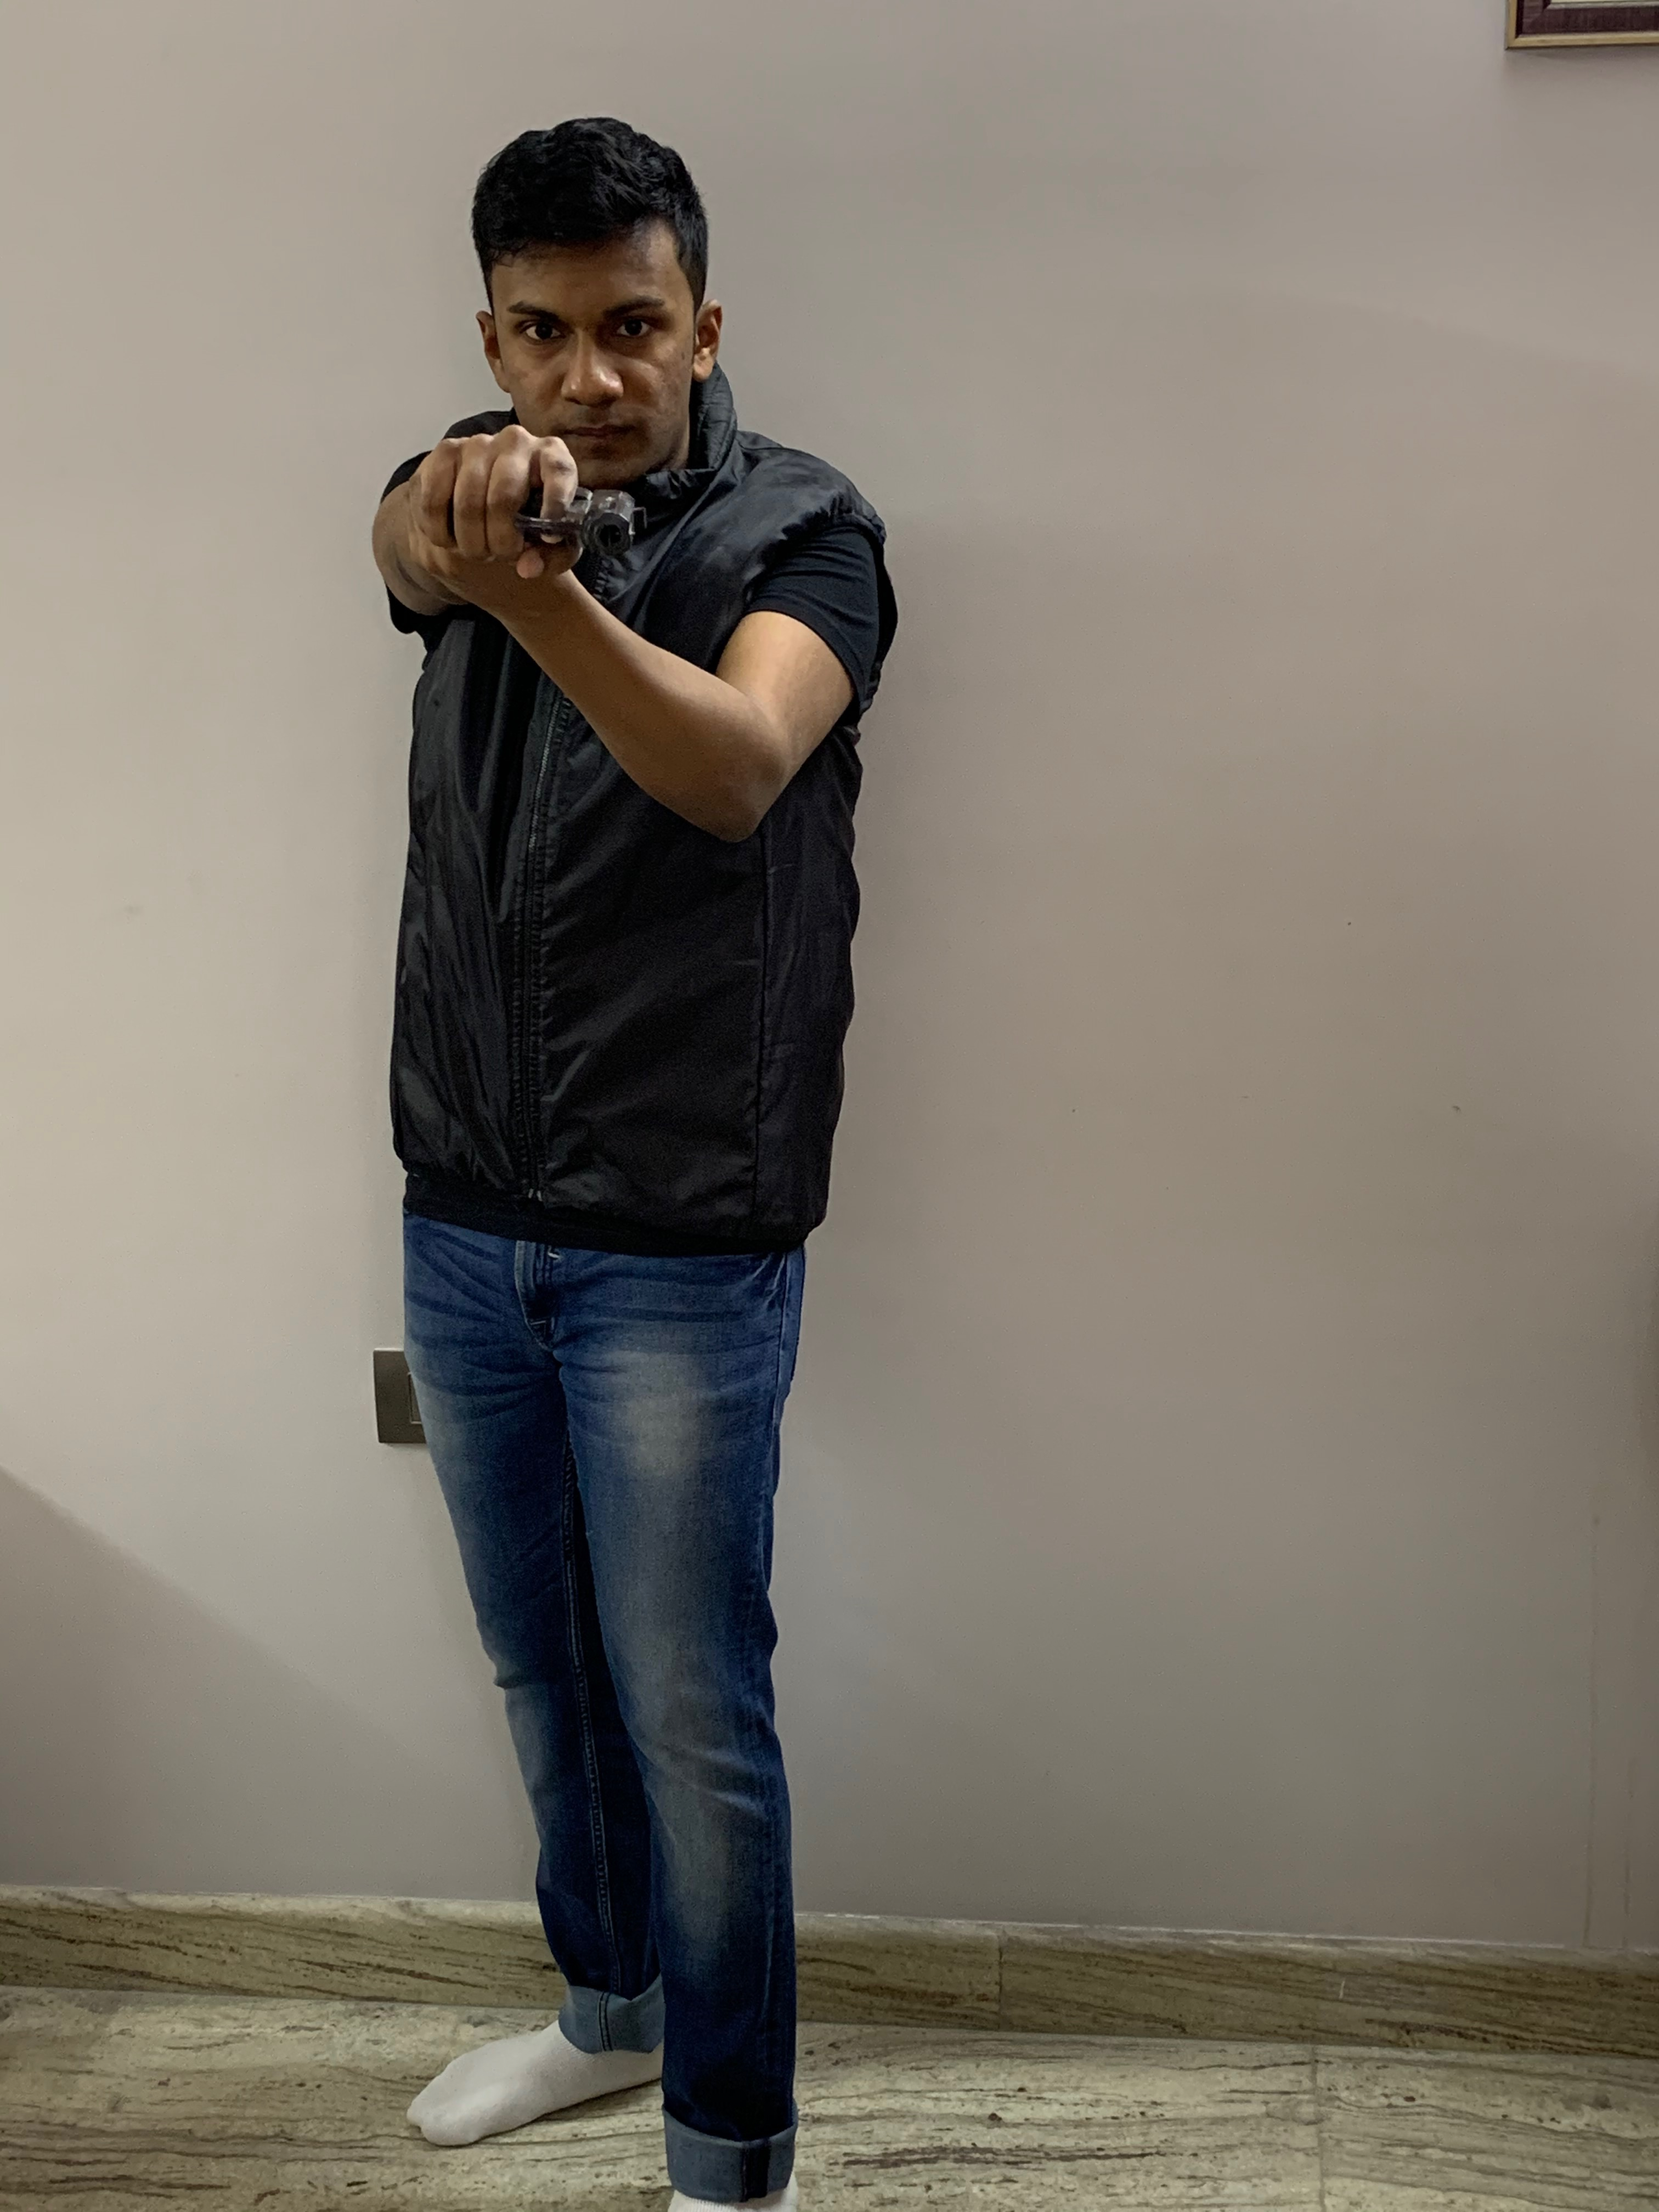gun: (512, 484, 643, 559)
